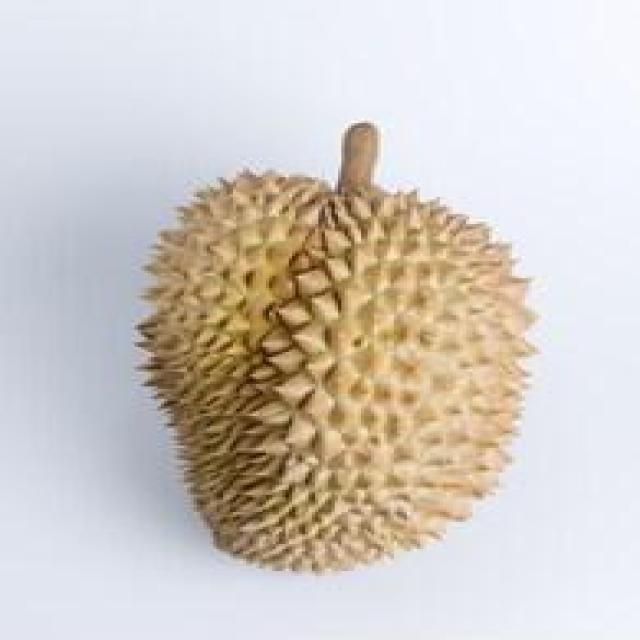mature: (140, 174, 530, 571)
